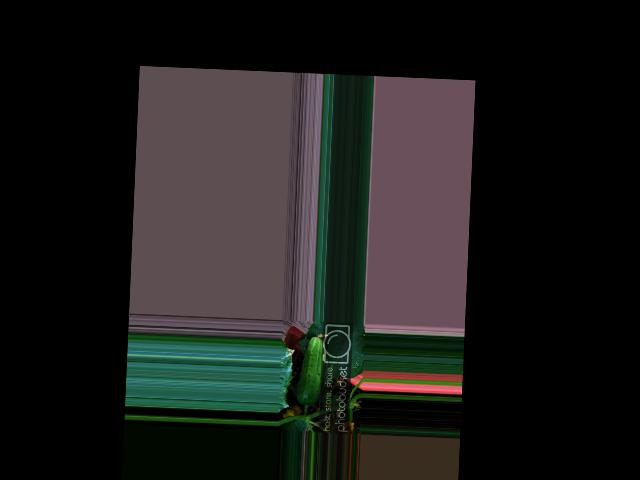cucumber: (296, 335, 327, 405)
